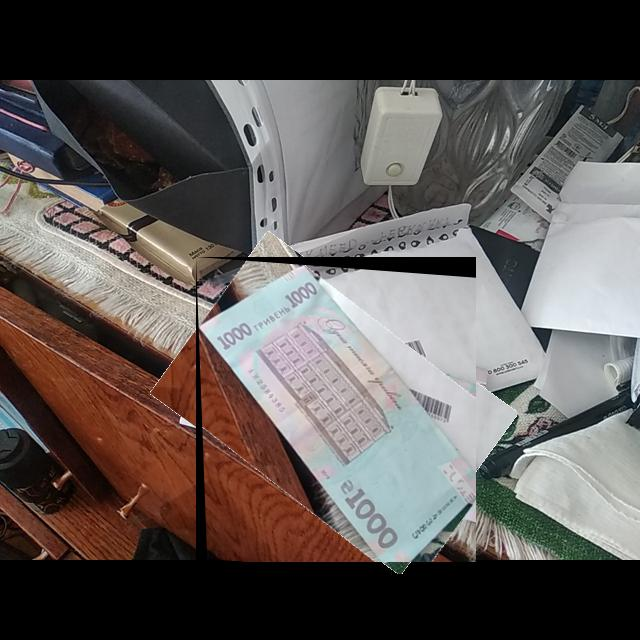1000uah: (199, 264, 477, 563)
